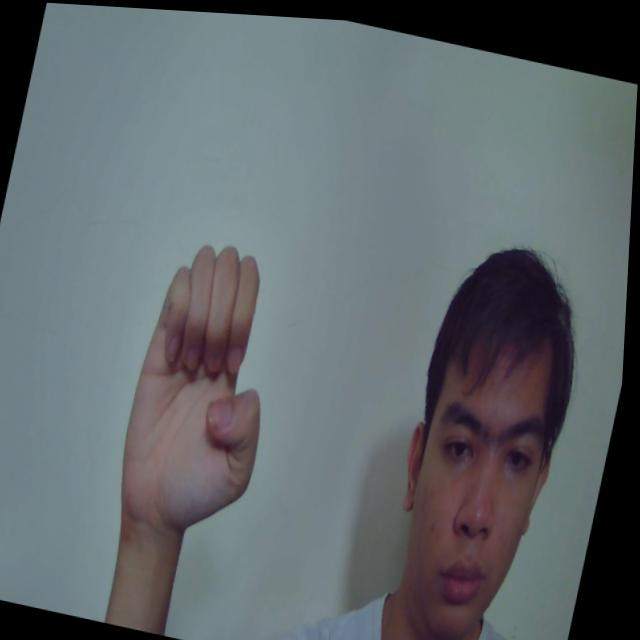E: (114, 229, 302, 541)
